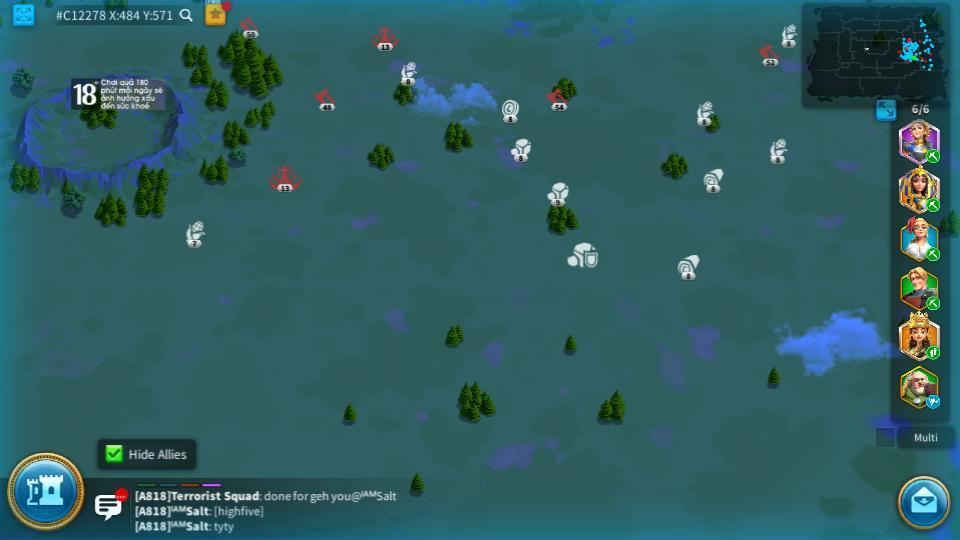march_idle: (925, 396, 941, 408)
march_marching: (925, 197, 941, 212), (925, 345, 941, 359), (925, 150, 941, 162), (925, 297, 942, 308)
